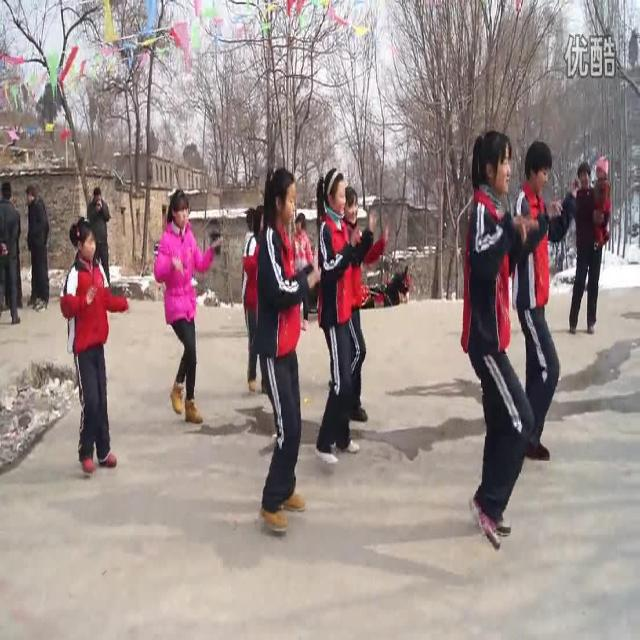non-fight: (456, 129, 542, 545), (246, 163, 316, 535), (63, 191, 130, 478), (317, 166, 374, 463), (150, 189, 214, 426), (566, 160, 611, 336), (0, 181, 24, 322), (24, 187, 50, 313)
